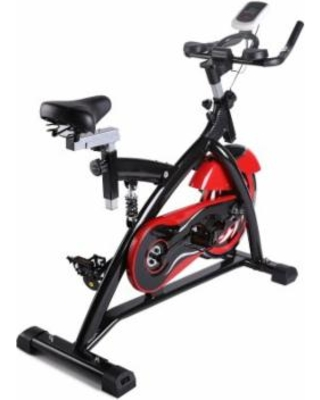gym_bike: (18, 6, 305, 396)
